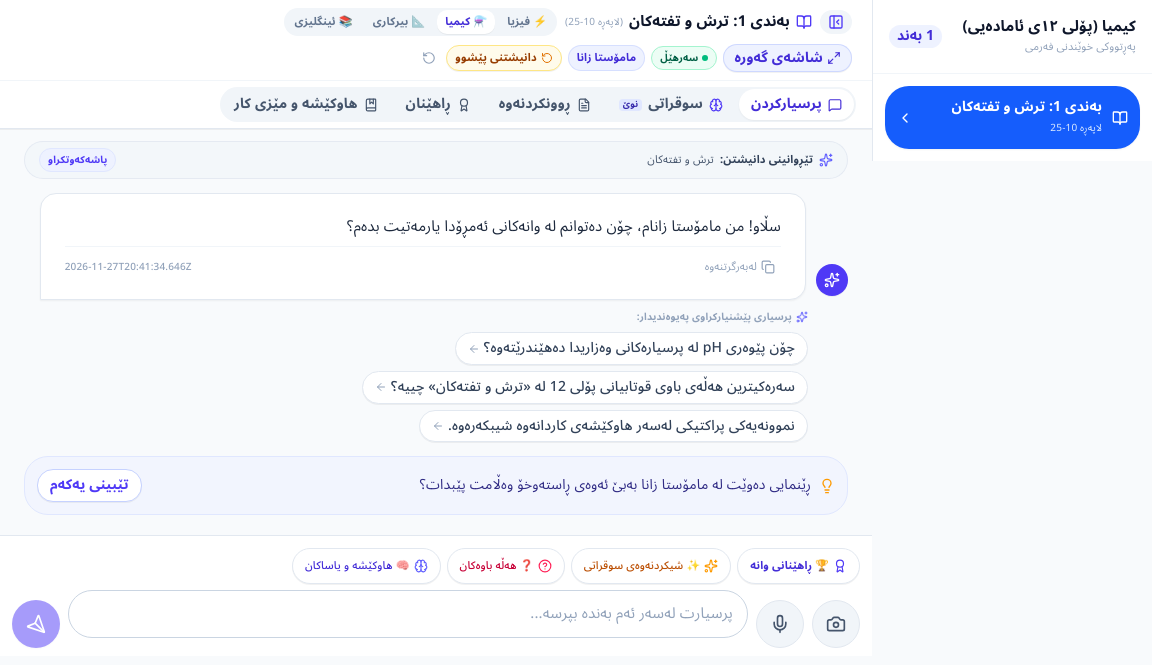
Test: Chat / AI Tutor Component Tests › 2. Toggles Socratic teaching mode and displays Socratic indicator banner
Click the button "سوقراتی نوێ".
click(671, 105)  # box [607,90,735,120]
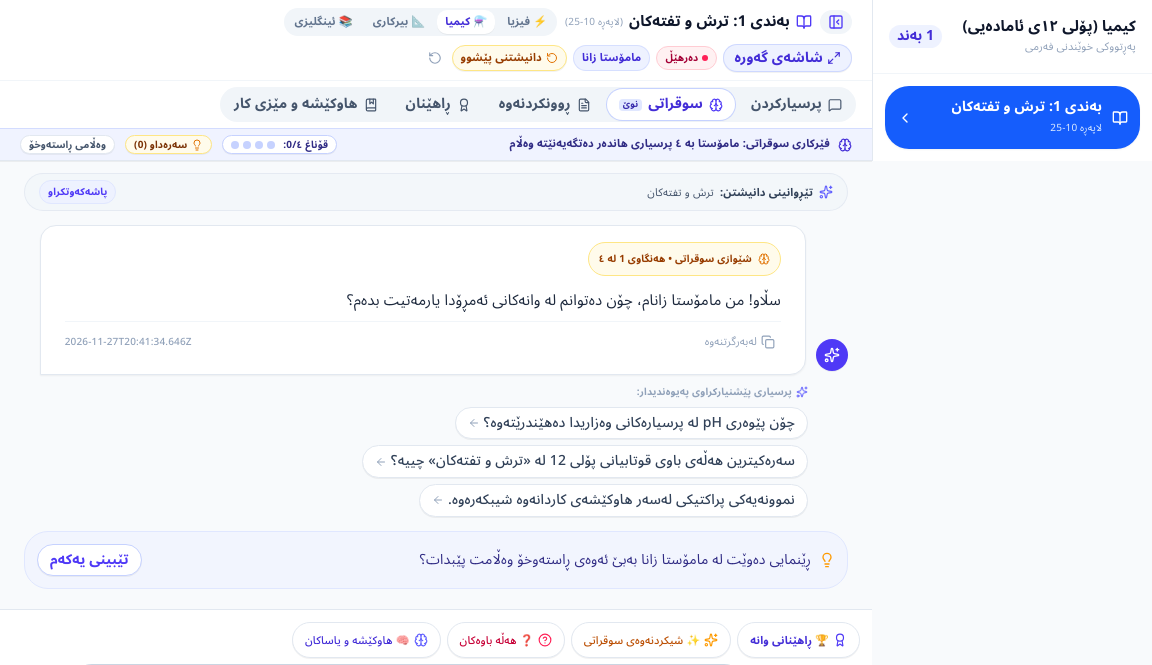
Check: the text "فێرکاری سوقراتی" is shown, box [510,132,830,155]
